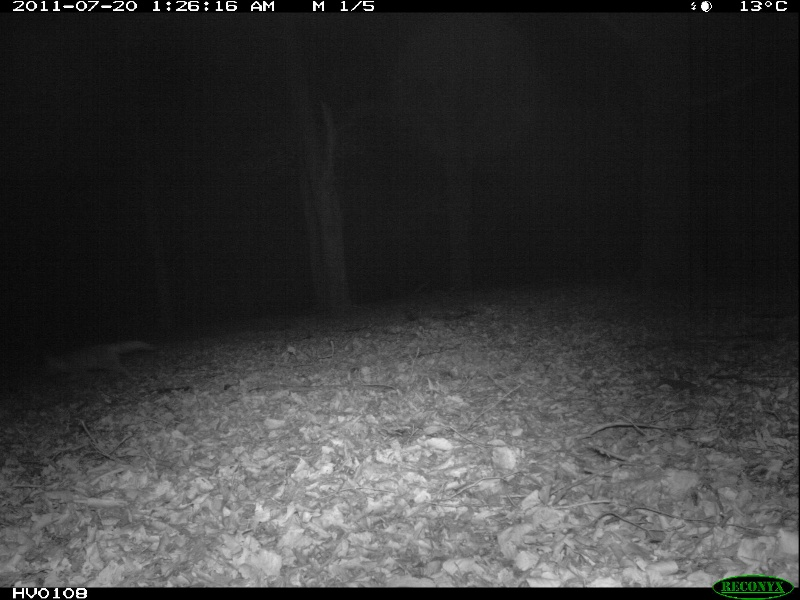fox: (43, 337, 152, 393)
